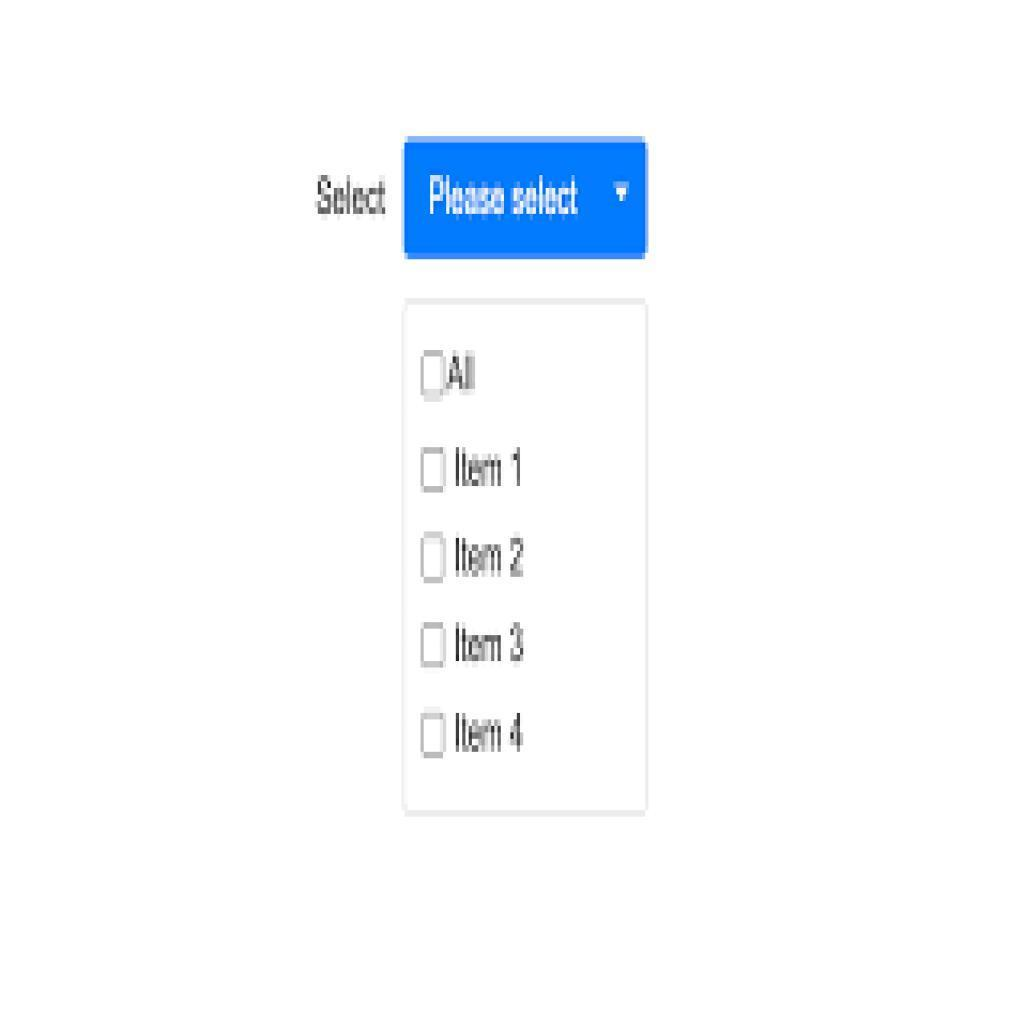checkbox: (422, 351, 449, 401), (420, 624, 448, 669), (420, 713, 448, 758), (422, 535, 448, 583), (421, 447, 448, 493)
dropdown: (406, 135, 647, 261)
